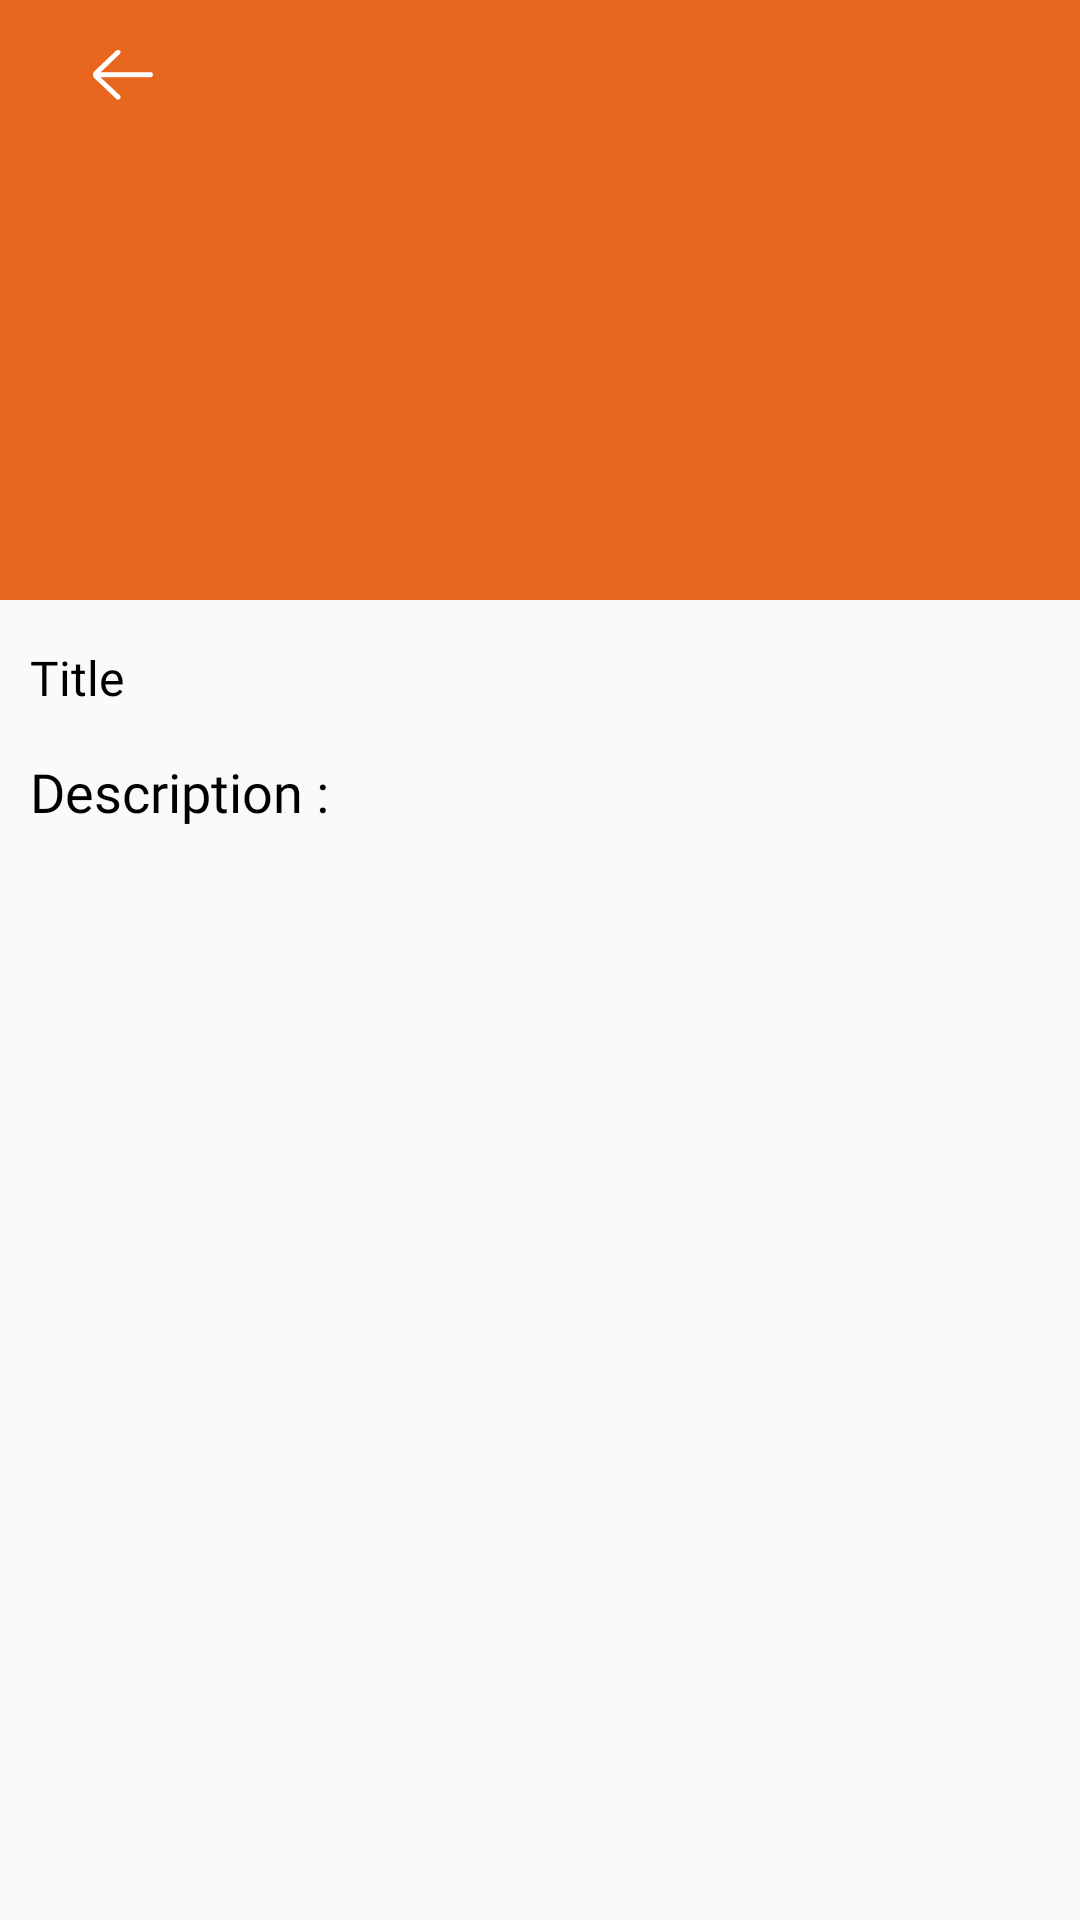

Named icons in this screenshot (1080px×1920px) and their bounding boxes, (x1, y1, x2, y2):
back: (93, 50, 153, 100)
